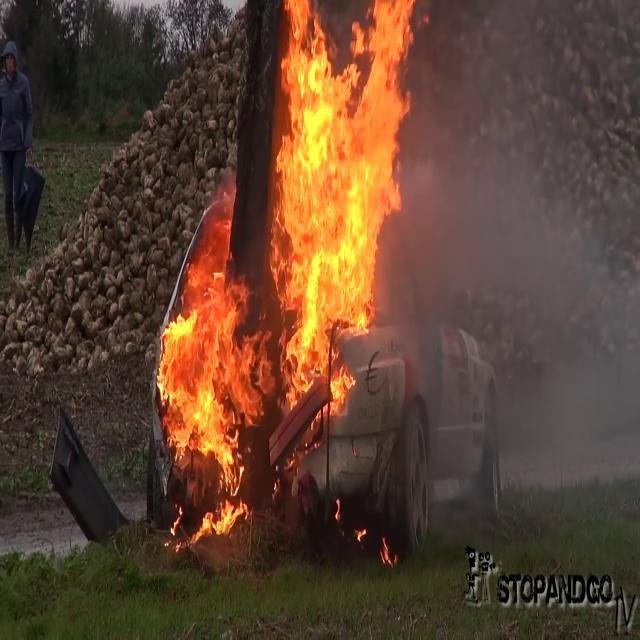Fire: (271, 0, 422, 396), (153, 208, 257, 546)
Smoke: (396, 156, 640, 514)
